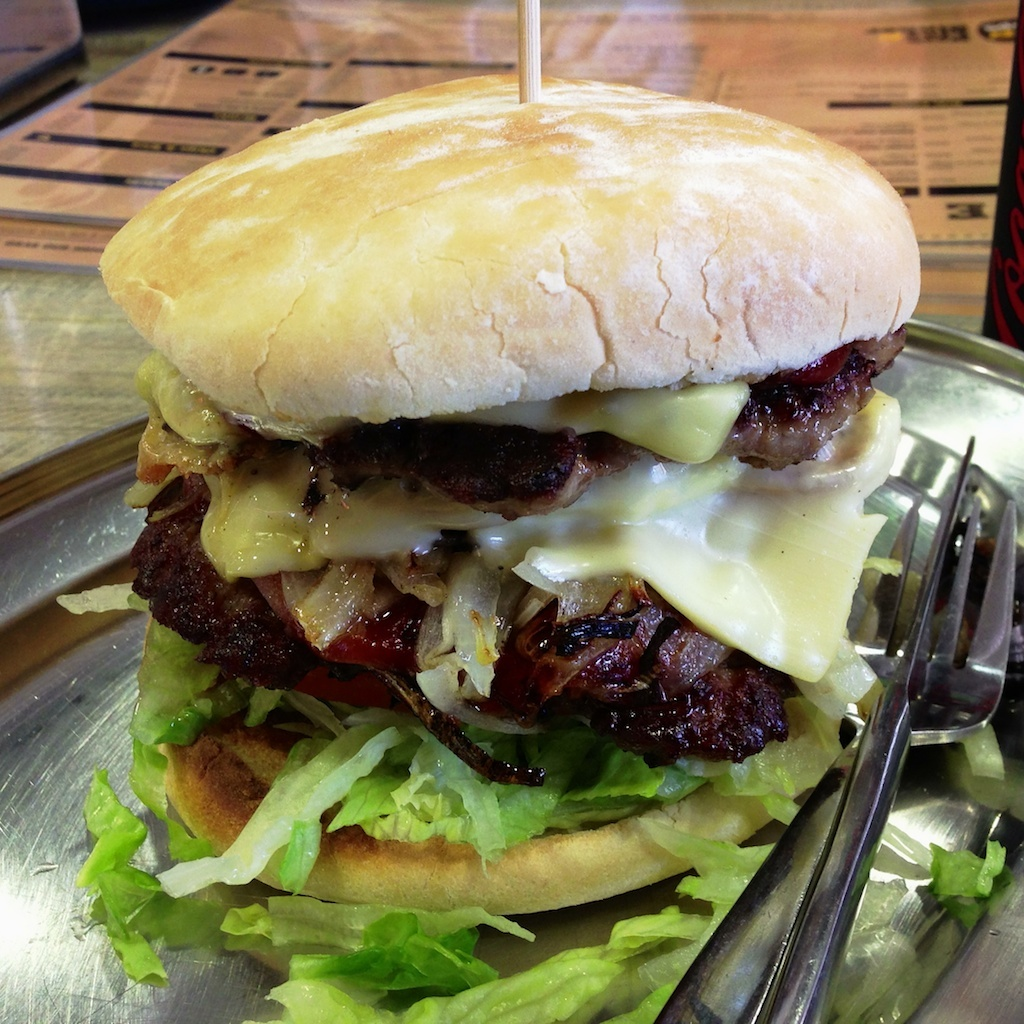Hamburger: (92, 71, 915, 940)
